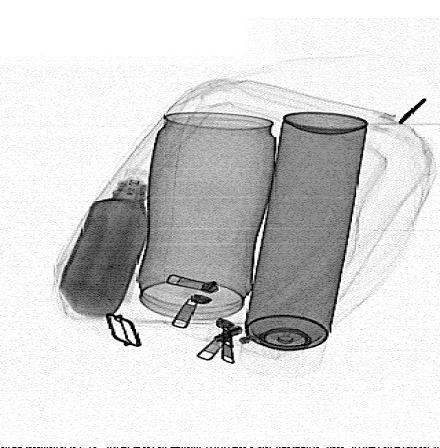Sprayer: (240, 111, 369, 380)
